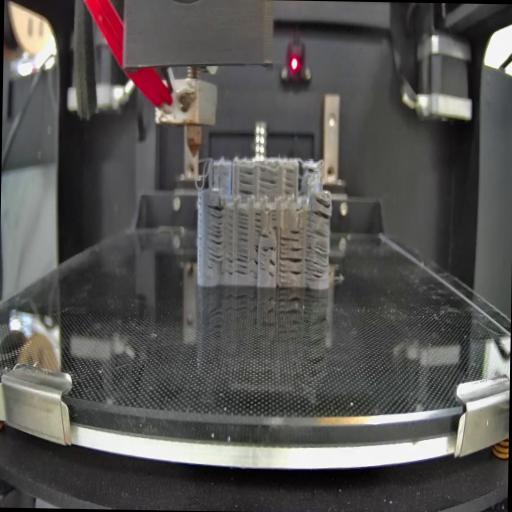cracks: (224, 212, 250, 278), (303, 228, 327, 281), (205, 205, 224, 266), (250, 244, 276, 284), (279, 246, 302, 284), (238, 168, 255, 198), (309, 198, 331, 220), (252, 210, 268, 240), (258, 168, 278, 192), (279, 226, 302, 246), (282, 169, 295, 193), (270, 207, 280, 230), (306, 166, 317, 174)
